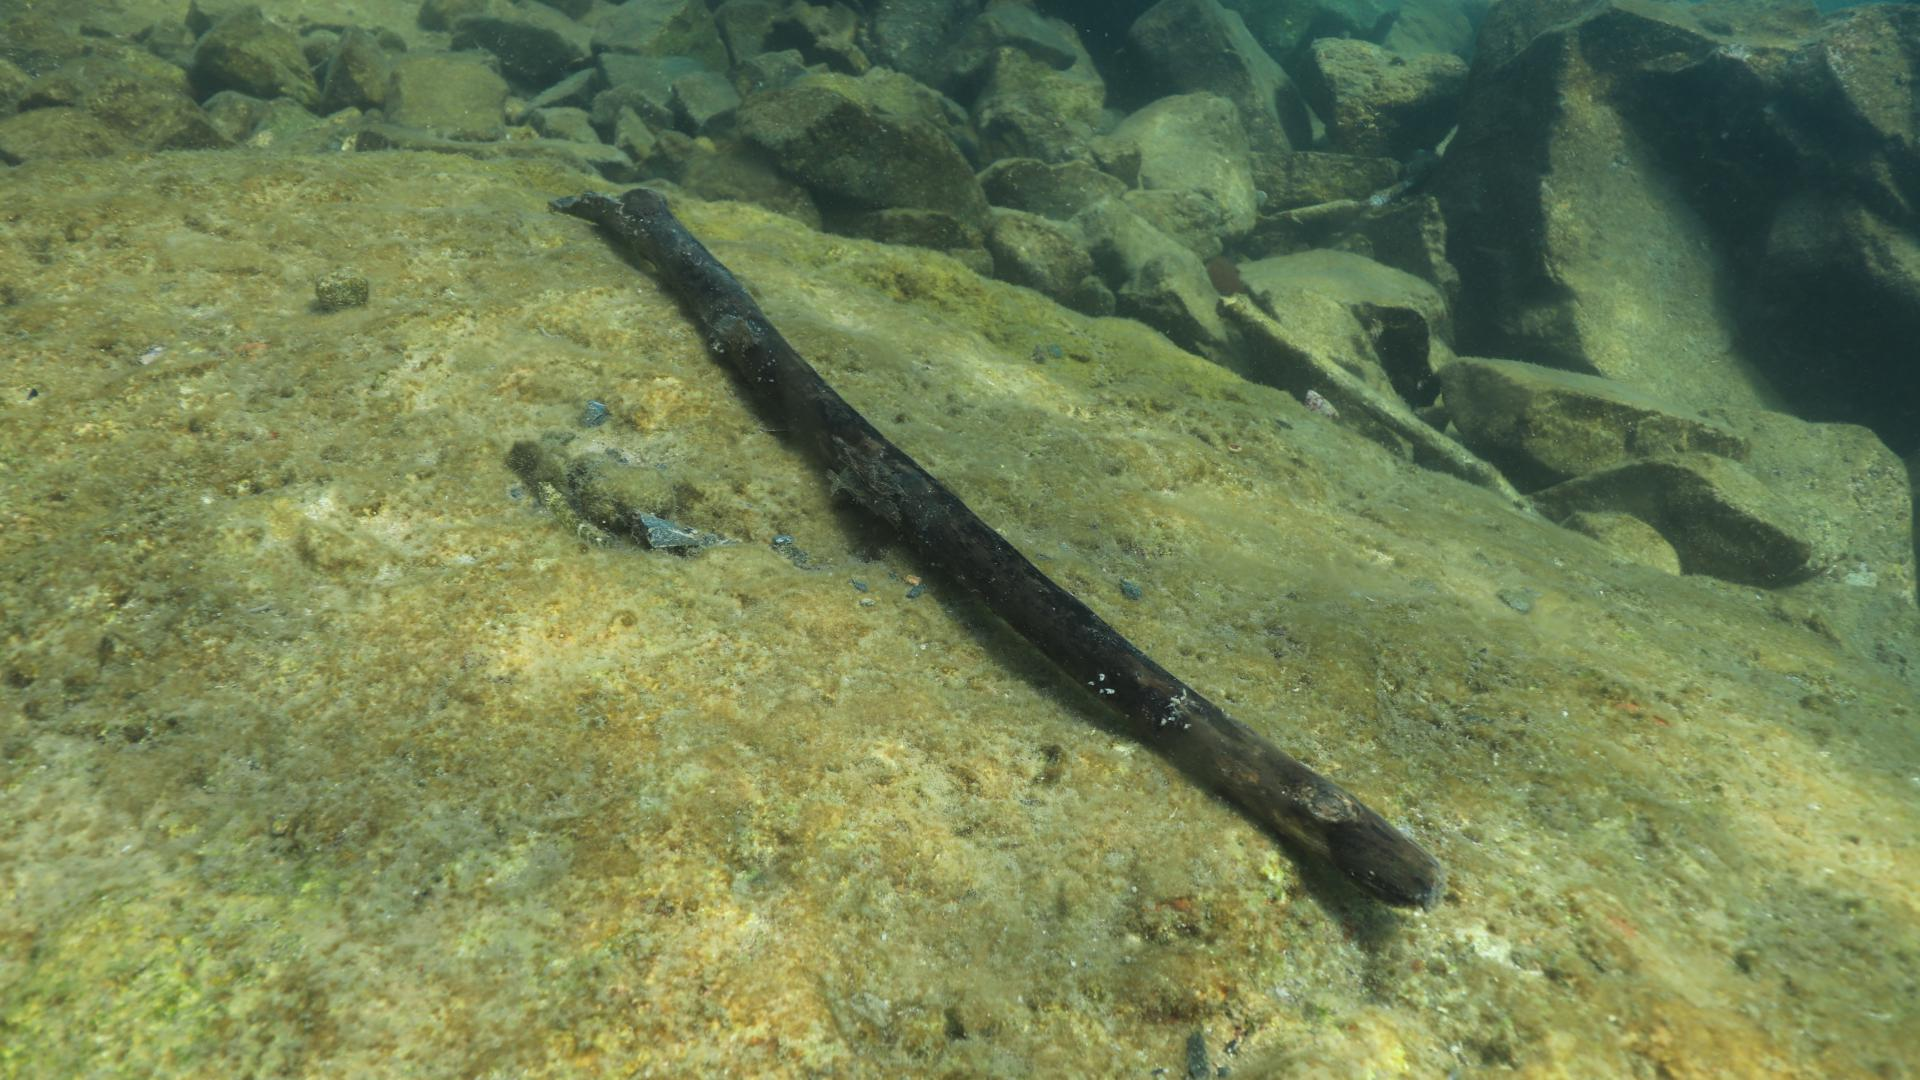wood: (545, 185, 1447, 909)
